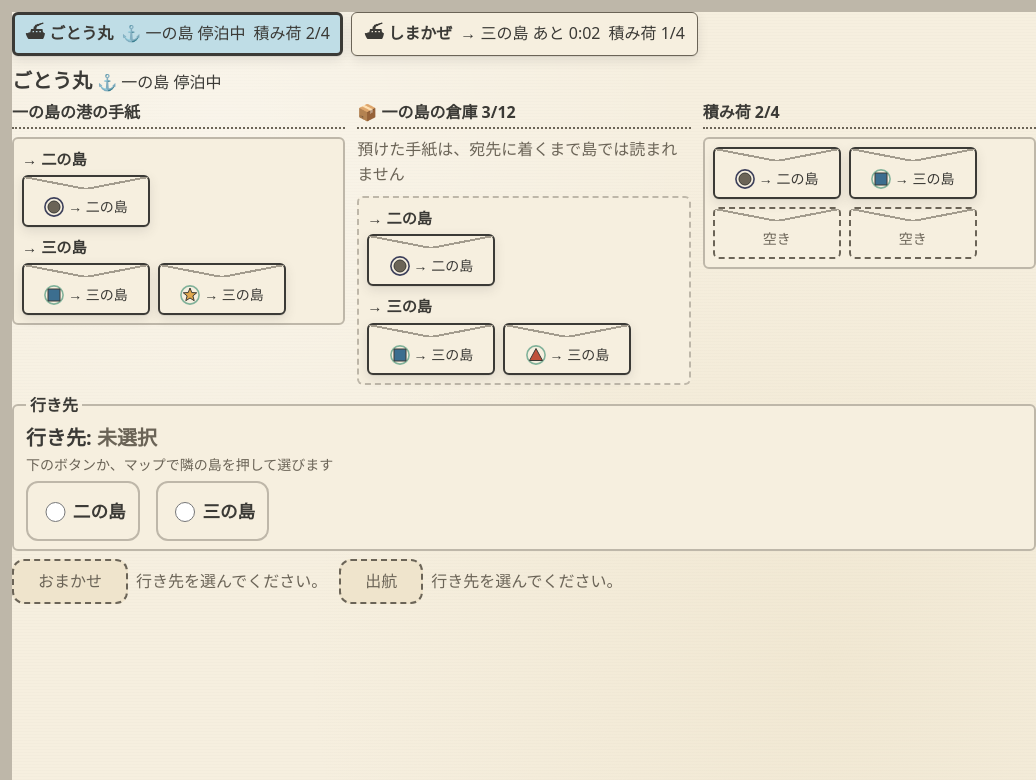
中継倉庫の区画（T-722） › FP-R1 relayCap > 0 の停泊中の船では、港と積み荷の間に倉庫の区画が出る
Expected: the text "預けた手紙は、宛先に着くまで島では読まれません" is shown, left=357, top=137, right=691, bottom=188
行き先の山には「行き先宛て」。
Click the radio button labelled "二の島" at (55, 512), box left=45, top=502, right=66, bottom=522
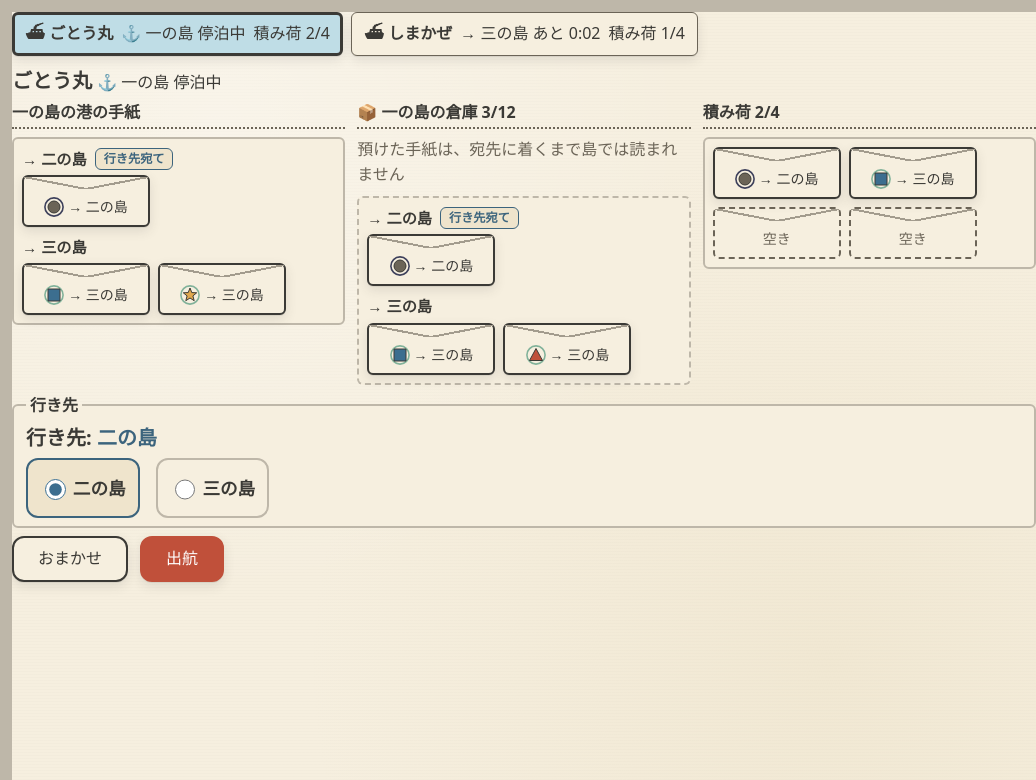
Now the heading with class "ferry-panel__pile-to" below "預けた手紙は、宛先に着くまで島では読まれません" reads "→ 二の島 行き先宛て", box left=367, top=207, right=519, bottom=229
